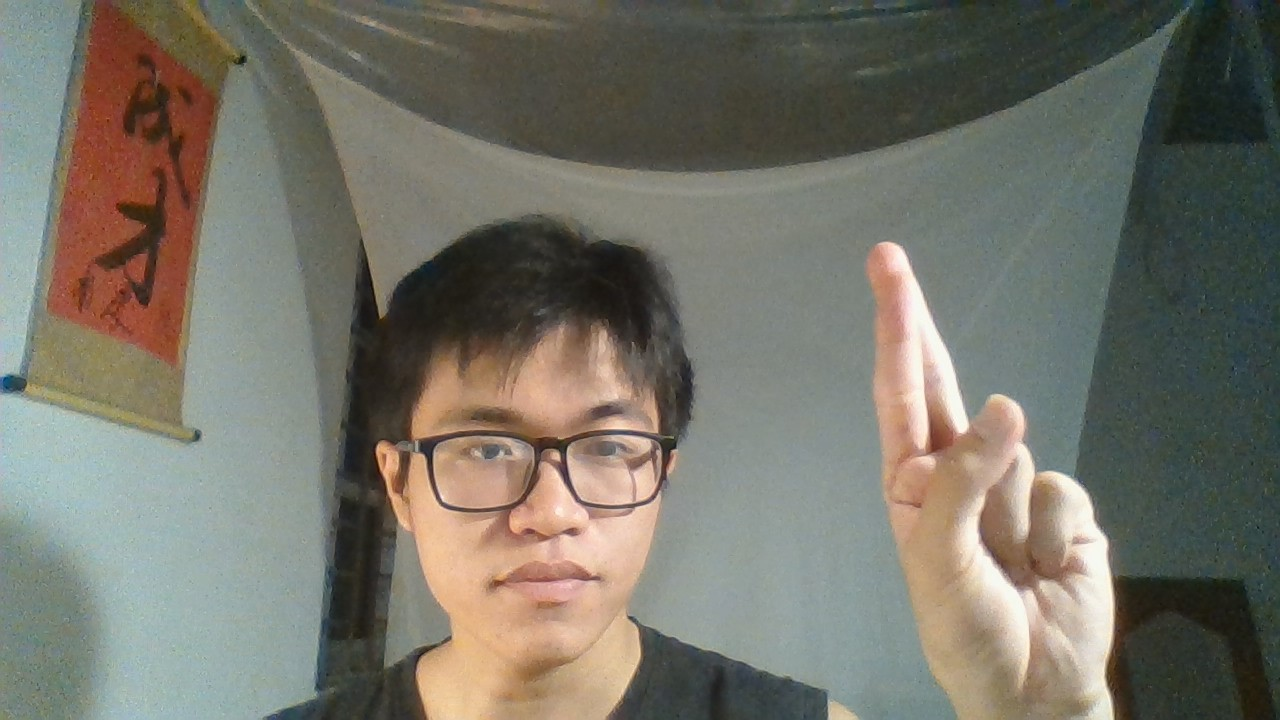r: (775, 192, 1173, 683)
